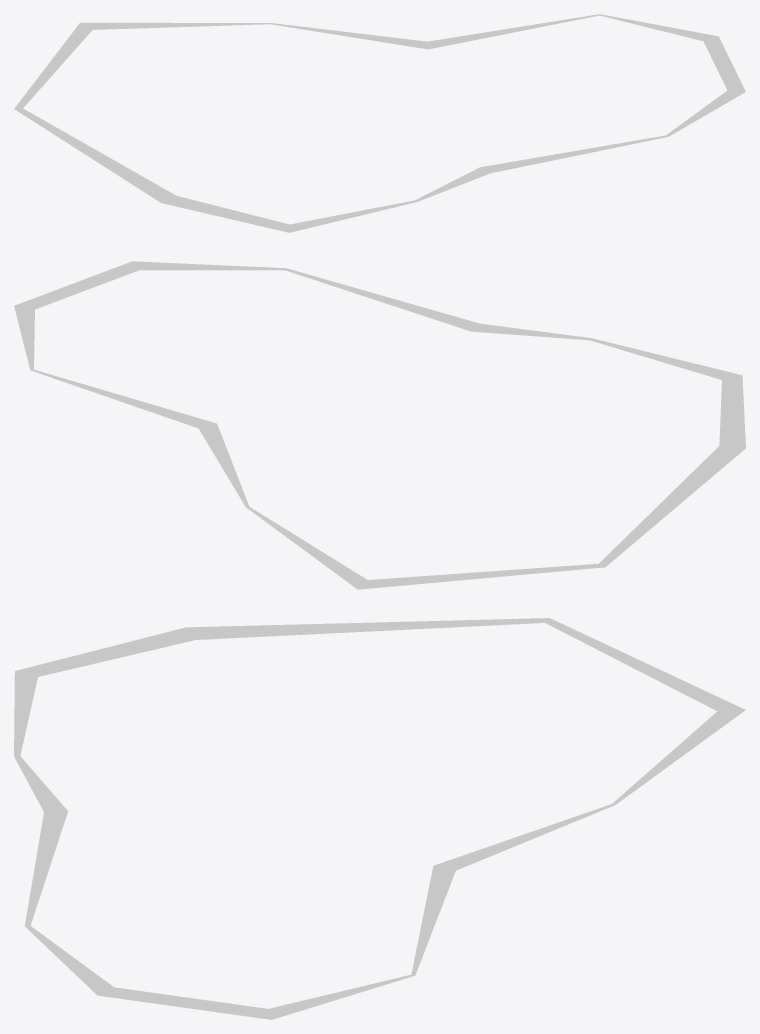
Rendered from Water_Line_02.FBX.
The picture shows the model from 3 angles, top to bottom: view 1: azimuth 30°, elevation 25°; view 2: azimuth 150°, elevation 25°; view 3: azimuth 270°, elevation 25°; orthographic projection. The views are drawn at different scales.
Parts seen in each view (by area): view 1: Water_Line_02; view 2: Water_Line_02; view 3: Water_Line_02.
Boxes of the visible parts, bbox=[...] form: Water_Line_02: bbox=[14, 14, 745, 232]; Water_Line_02: bbox=[14, 261, 745, 589]; Water_Line_02: bbox=[14, 618, 745, 1019].
Bounding box in the file's own units: 5.99 × 2.31e-07 × 4.61.
